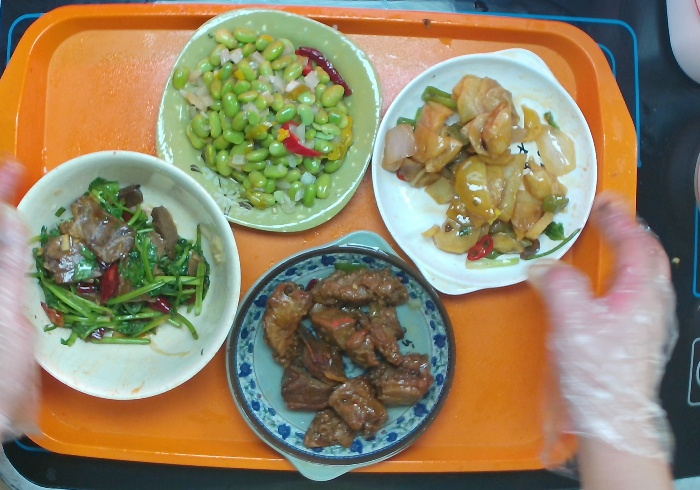NLDX-Bai_Se_Shuang_Er_Die: (369, 46, 602, 297)
NLDX-Bai_Se_Yuan_Wan: (1, 147, 245, 406)
NLDX-Lv_Hua_Fang_Die: (150, 6, 386, 236)
NLDX-Qing_Hua_Shuang_Er_Die: (221, 226, 458, 485)
